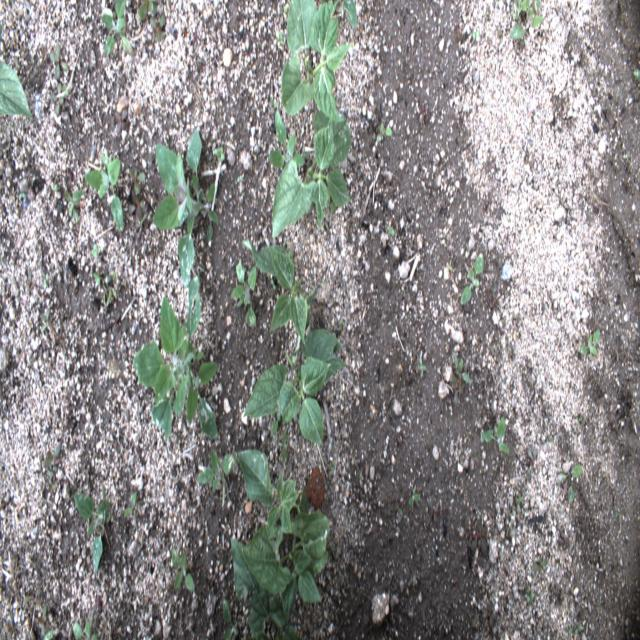crop: (242, 327, 349, 450), (272, 110, 352, 241), (243, 512, 330, 623), (240, 238, 319, 352), (282, 0, 354, 124), (230, 535, 303, 640), (237, 449, 308, 535), (0, 61, 33, 121)
weed: (130, 276, 218, 443), (152, 130, 219, 288), (71, 484, 111, 580), (85, 147, 123, 232), (196, 447, 238, 507), (266, 110, 306, 169), (231, 256, 257, 331), (102, 0, 134, 57), (459, 251, 484, 308), (507, 0, 544, 37), (551, 465, 583, 507), (170, 544, 197, 593), (448, 352, 471, 409), (480, 413, 510, 456), (467, 513, 490, 557), (48, 42, 69, 81), (128, 188, 148, 223), (580, 327, 601, 360), (65, 187, 83, 225), (223, 597, 238, 639), (44, 440, 60, 476), (127, 166, 145, 195), (72, 619, 97, 639), (150, 14, 167, 43), (342, 0, 357, 30), (50, 84, 64, 116), (136, 0, 158, 20), (123, 489, 138, 518), (114, 108, 130, 133), (530, 557, 547, 580), (377, 121, 393, 144), (103, 286, 117, 309), (37, 606, 47, 638), (526, 448, 536, 480), (407, 482, 420, 506), (40, 306, 50, 336), (418, 101, 430, 124), (417, 353, 428, 378), (5, 610, 15, 637), (23, 590, 41, 605), (514, 488, 524, 514), (269, 414, 279, 439), (462, 320, 473, 342), (429, 497, 438, 523), (281, 428, 287, 464), (524, 587, 535, 606), (213, 146, 226, 162), (93, 272, 104, 290), (269, 95, 280, 111), (91, 244, 101, 261), (275, 30, 285, 46), (41, 629, 53, 639), (632, 68, 640, 83), (574, 623, 583, 636), (564, 624, 573, 636), (387, 224, 395, 236), (270, 277, 276, 292), (51, 180, 58, 192), (471, 30, 480, 37), (331, 461, 335, 475), (237, 175, 243, 184)
